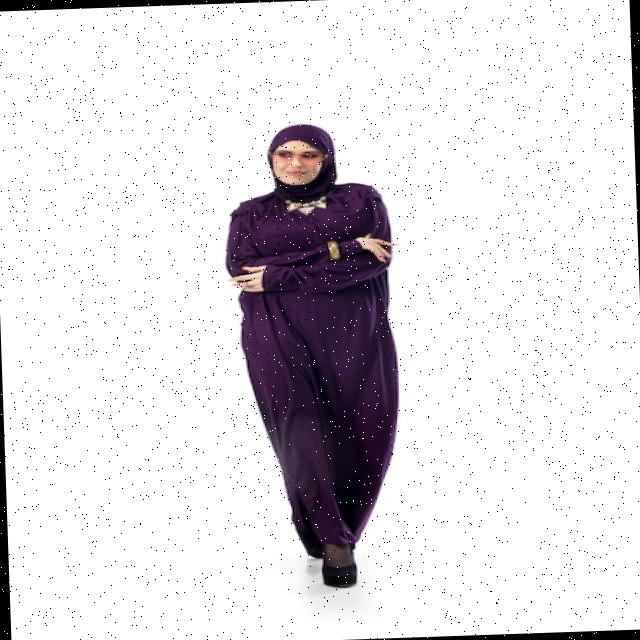Person: (218, 119, 404, 591)
